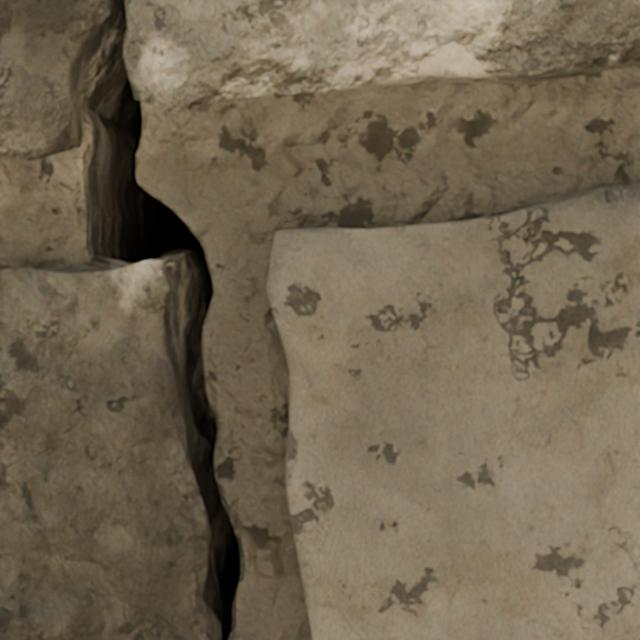broken_brick: (124, 0, 639, 113), (0, 0, 109, 160)
crack: (266, 184, 639, 639), (0, 0, 249, 639), (402, 74, 451, 80), (421, 61, 460, 65)
